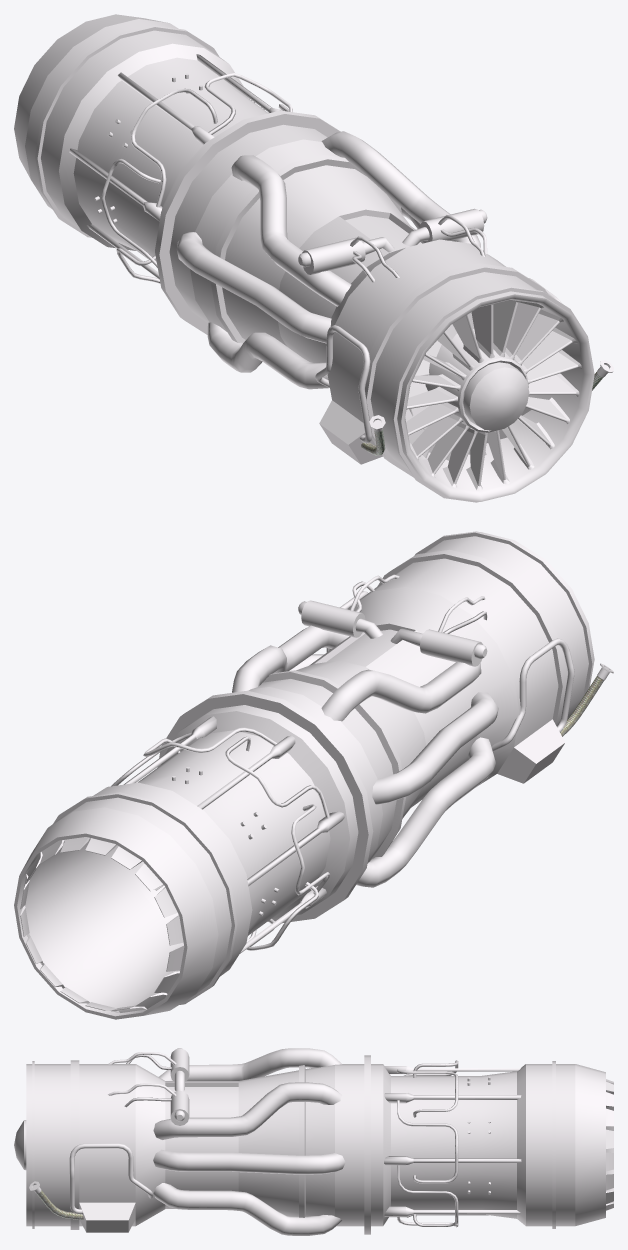
Rendered from Spyplane_engine_UV.fbx.
The picture shows the model from 3 angles, top to bottom: view 1: azimuth 30°, elevation 25°; view 2: azimuth 150°, elevation 25°; view 3: azimuth 270°, elevation 25°; orthographic projection. The views are drawn at different scales.
Parts seen in each view (by area): view 1: Cylinder, main_fan_blades, PipeMain1, tip, PipeMain2, PipeMain3, Container, Pipes_rear, Poles, Pipe_fuel, fan_blades, tubes; view 2: Cylinder, PipeMain1, PipeMain3, CylinderEdge, PipeMain2, Container, Pipes_rear, Poles, Pipe_fuel, tubes; view 3: Cylinder, PipeMain1, PipeMain2, PipeMain3, Poles, Pipes_rear, Container, CylinderEdge, Pipe_fuel, tubes, tip, Pipe_fuel_Front.
Part boxes in pixels (bbox=[...]): Cylinder: bbox=[14, 14, 594, 502]; main_fan_blades: bbox=[406, 300, 581, 490]; PipeMain1: bbox=[231, 131, 480, 306]; tip: bbox=[425, 329, 529, 432]; PipeMain2: bbox=[176, 207, 420, 343]; PipeMain3: bbox=[207, 322, 328, 389]; Container: bbox=[298, 208, 487, 274]; Pipes_rear: bbox=[101, 73, 292, 283]; Poles: bbox=[69, 54, 280, 279]; Pipe_fuel: bbox=[315, 278, 561, 443]; fan_blades: bbox=[405, 313, 531, 460]; tubes: bbox=[350, 215, 487, 282]; Cylinder: bbox=[14, 531, 594, 1019]; PipeMain1: bbox=[232, 625, 481, 721]; PipeMain3: bbox=[356, 737, 495, 887]; CylinderEdge: bbox=[20, 837, 184, 1012]; PipeMain2: bbox=[289, 654, 498, 804]; Container: bbox=[298, 600, 487, 666]; Pipes_rear: bbox=[111, 727, 330, 950]; Poles: bbox=[124, 716, 344, 953]; Pipe_fuel: bbox=[326, 591, 574, 751]; tubes: bbox=[350, 574, 487, 633]; Cylinder: bbox=[26, 1055, 605, 1234]; PipeMain1: bbox=[153, 1048, 341, 1139]; PipeMain2: bbox=[153, 1149, 345, 1174]; PipeMain3: bbox=[153, 1183, 342, 1235]; Poles: bbox=[384, 1066, 521, 1217]; Pipes_rear: bbox=[397, 1060, 458, 1227]; Container: bbox=[170, 1048, 189, 1125]; CylinderEdge: bbox=[606, 1079, 613, 1210]; Pipe_fuel: bbox=[69, 1143, 152, 1214]; tubes: bbox=[108, 1052, 176, 1107]; tip: bbox=[14, 1120, 26, 1170]; Pipe_fuel_Front: bbox=[37, 1190, 83, 1219].
Size of the model in its own units: 126 by 109 by 368.
